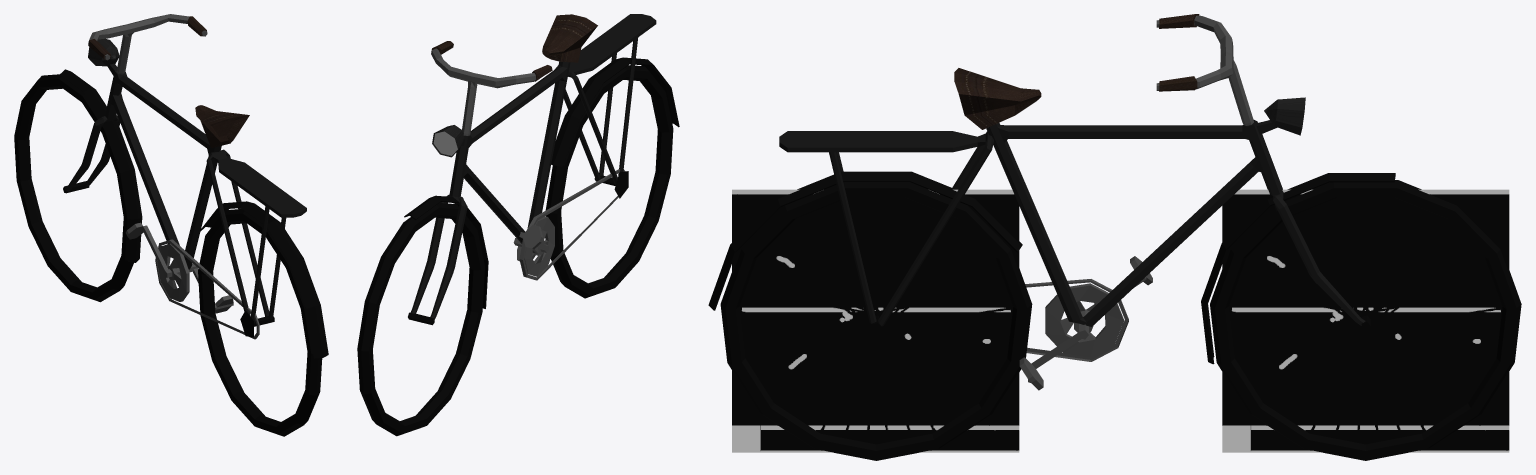
Rendered from VintBicycle.fbx.
3 views of the same model, side by side, from view 1: azimuth 30°, elevation 25°; view 2: azimuth 150°, elevation 25°; view 3: azimuth 270°, elevation 25° (orthographic). The views are drawn at different scales.
Parts seen in each view (by area): view 1: Frame, BackWheel, FrontWheel, Rotary, Steering, Seat, Pedal, Light.001, Handle; view 2: Frame, BackWheel, FrontWheel, Rotary, Seat, Steering, Light.001, Pedal, Handle; view 3: FrontWireWheel, BackWireWheel, Frame, BackWheel, FrontWheel, Rotary, Seat, Steering, Pedal, Light.001, Handle.
Part boxes in pixels (x1,y1,x2,y2): Frame: (65,63,306,323); BackWheel: (198,201,328,436); FrontWheel: (14,69,142,302); Rotary: (155,239,259,339); Steering: (88,14,207,74); Seat: (195,105,249,147); Pedal: (125,222,233,313); Light.001: (88,38,119,66); Handle: (88,16,206,60); Frame: (410,14,656,320); BackWheel: (545,57,679,298); FrontWheel: (357,195,488,436); Rotary: (519,169,625,280); Seat: (542,14,597,62); Steering: (431,48,551,135); Light.001: (432,125,464,157); Pedal: (513,225,548,261); Handle: (431,41,552,81); FrontWireWheel: (1222,189,1509,452); BackWireWheel: (732,189,1019,452); Frame: (779,120,1365,326); BackWheel: (708,171,1032,460); FrontWheel: (1201,173,1521,460); Rotary: (1025,279,1128,361); Seat: (954,68,1041,129); Steering: (1156,15,1253,125); Pedal: (1019,256,1152,390); Light.001: (1264,97,1305,135); Handle: (1159,14,1199,91).
Size of the model in its own units: 31.68 by 91.02 by 161.
Materials: 11 (4 with a texture image).
